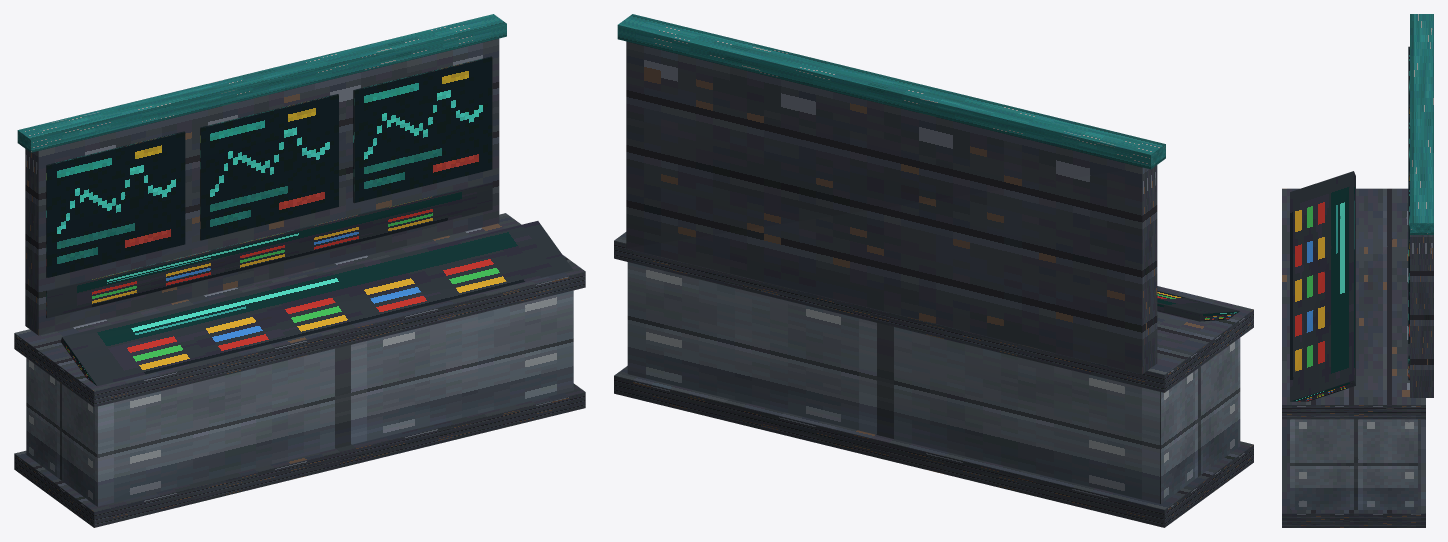
Rendered from control_console_wide.glb.
The picture shows the model from 3 angles, left to right: view 1: azimuth 30°, elevation 25°; view 2: azimuth 150°, elevation 25°; view 3: azimuth 270°, elevation 25°; orthographic projection. The views are drawn at different scales.
Parts seen in each view (by area): view 1: control_console_wide; view 2: control_console_wide; view 3: control_console_wide.
Part boxes in pixels (bbox=[...]): control_console_wide: bbox=[14, 14, 585, 527]; control_console_wide: bbox=[614, 14, 1253, 527]; control_console_wide: bbox=[1282, 14, 1433, 527].
Bounding box in the file's own units: 3.2 × 2.08 × 0.95.
1 material, 1 textured.
